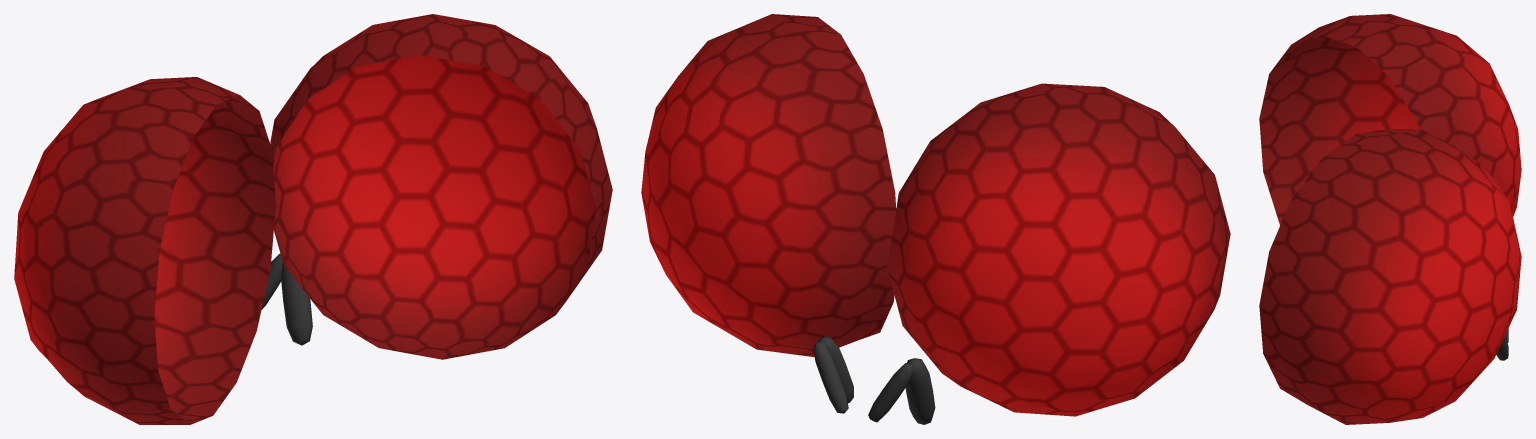
The model's file is IG_FackMask_FlyMask.fbx.
3 views of the same model, side by side, from view 1: azimuth 30°, elevation 25°; view 2: azimuth 150°, elevation 25°; view 3: azimuth 270°, elevation 25° (orthographic). The views are drawn at different scales.
Parts seen in each view (by area): view 1: Boss_Fly_Face; view 2: Boss_Fly_Face; view 3: Boss_Fly_Face.
Part boxes in pixels (bbox=[...]): Boss_Fly_Face: bbox=[14, 14, 612, 424]; Boss_Fly_Face: bbox=[641, 14, 1230, 424]; Boss_Fly_Face: bbox=[1259, 14, 1521, 424].
Size of the model in its own units: 0.5086 by 0.2897 by 0.243.
